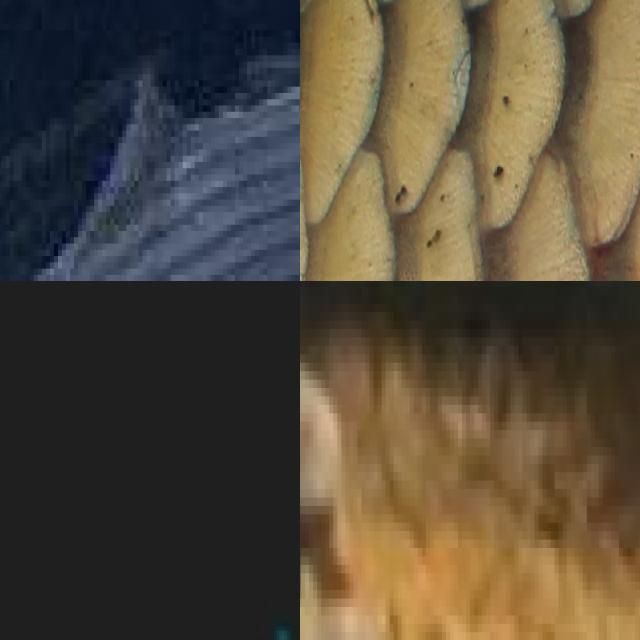fish: (300, 0, 640, 281), (0, 0, 300, 281)
